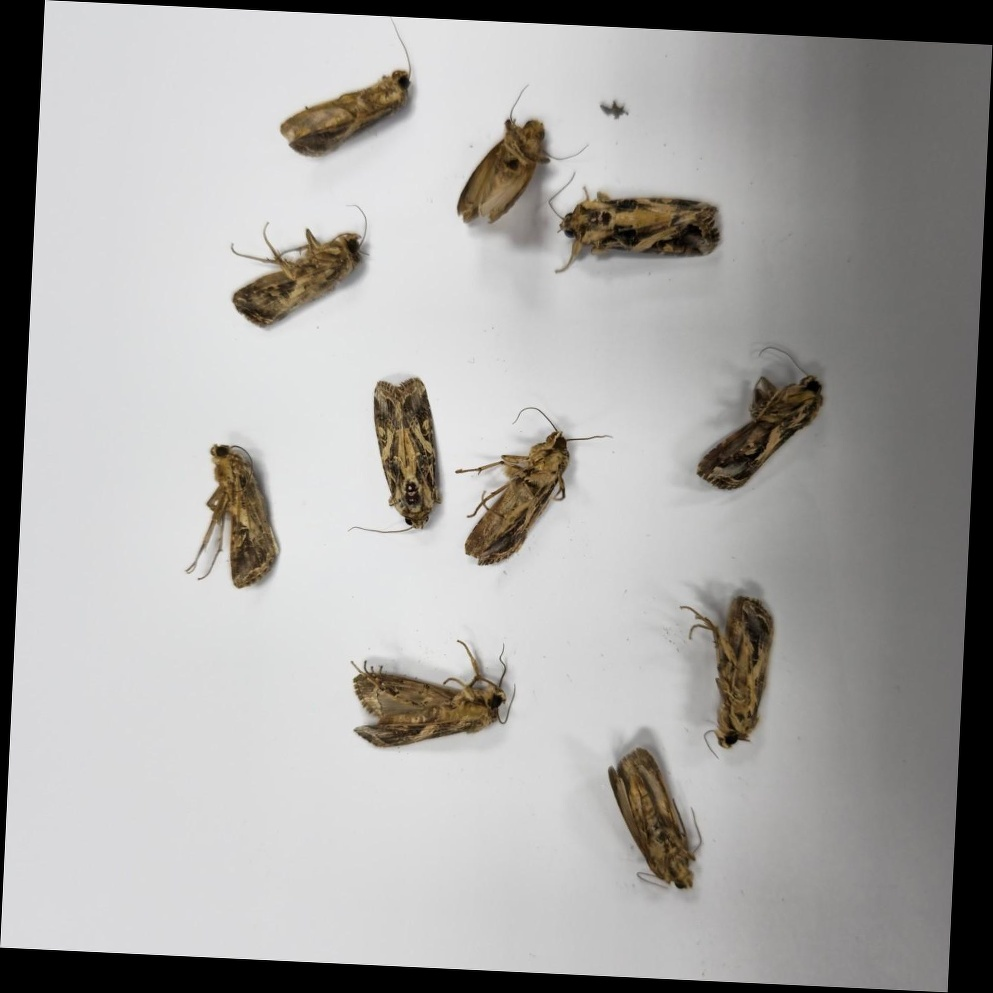Spodoptera litura: (453, 407, 611, 568), (348, 638, 517, 750), (282, 15, 413, 159), (458, 84, 588, 227), (547, 174, 721, 278), (698, 346, 822, 491), (230, 201, 370, 329), (676, 595, 773, 760), (351, 376, 445, 533), (605, 747, 703, 888), (188, 445, 283, 588)
